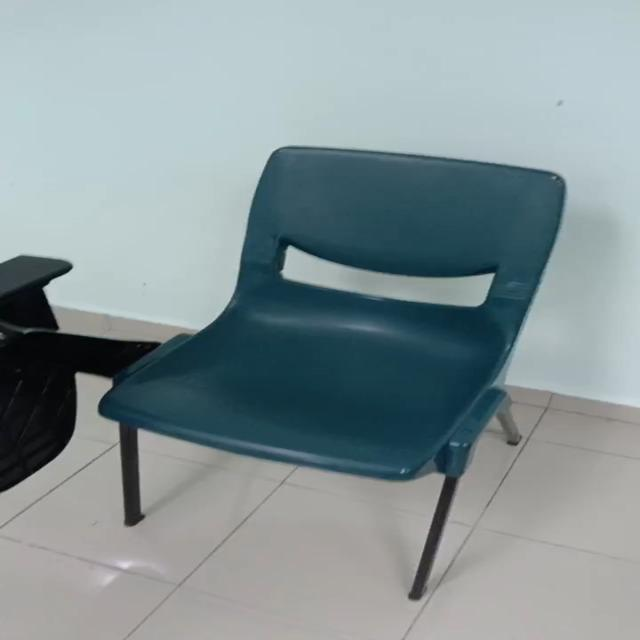sandalye: (99, 147, 564, 600)
